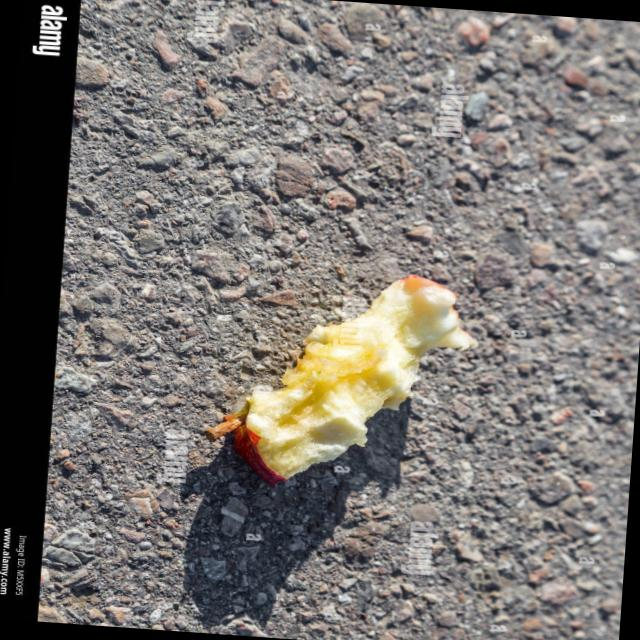apple_fruit: (208, 265, 500, 514)
